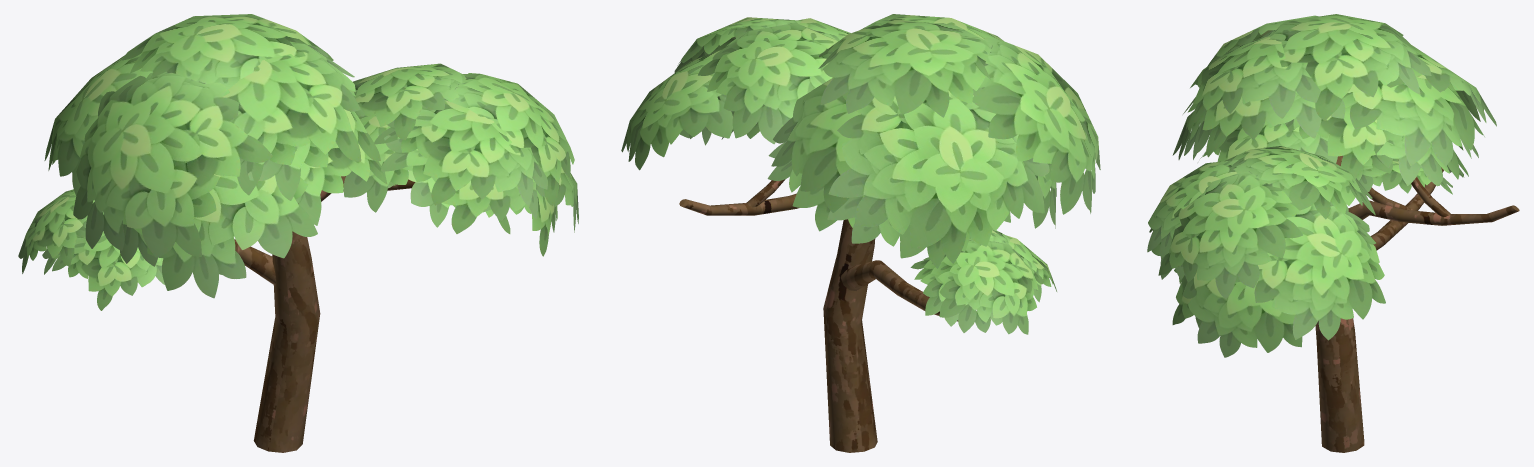
Rendered from quaternius-textured-stylized-trees-tree-9.glb.
3 renders of one model, left to right at view 1: azimuth 30°, elevation 25°; view 2: azimuth 150°, elevation 25°; view 3: azimuth 270°, elevation 25°, orthographic. The views are drawn at different scales.
Parts seen in each view (by area): view 1: Tree_9; view 2: Tree_9; view 3: Tree_9.
Part boxes in pixels (bbox=[...]): Tree_9: bbox=[18, 14, 578, 452]; Tree_9: bbox=[621, 14, 1100, 452]; Tree_9: bbox=[1147, 14, 1519, 452].
Size of the model in its own units: 6.36 by 5.49 by 4.94.
2 materials, 2 textured.
